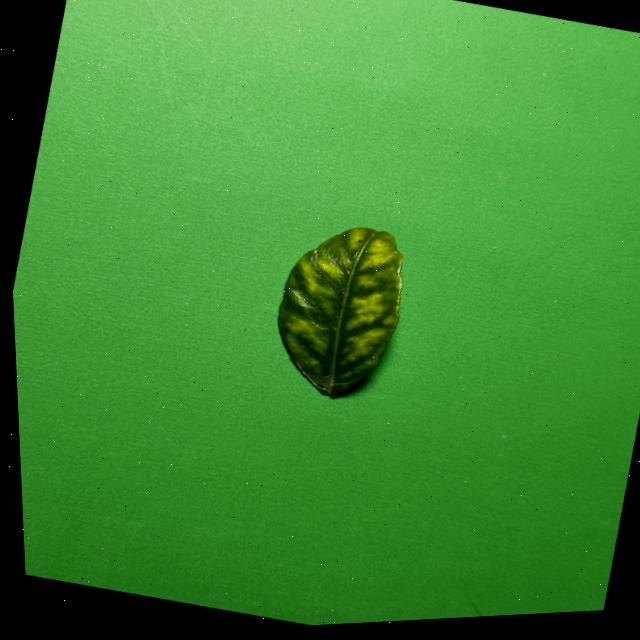greening: (277, 226, 401, 395)
